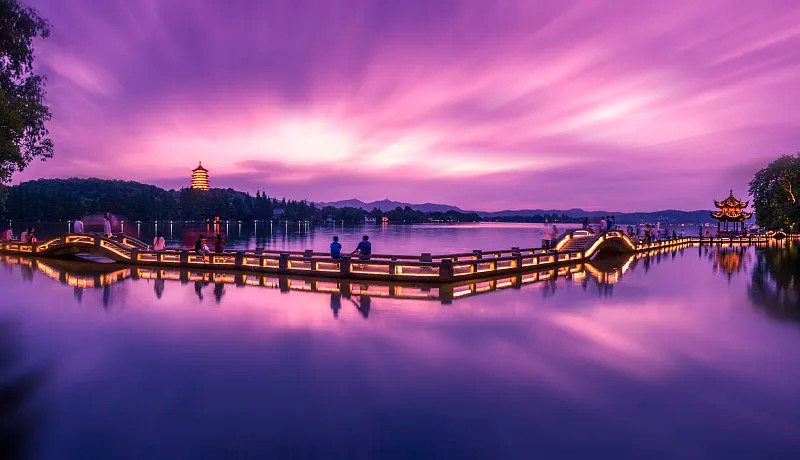Leifeng: (189, 157, 210, 191)
